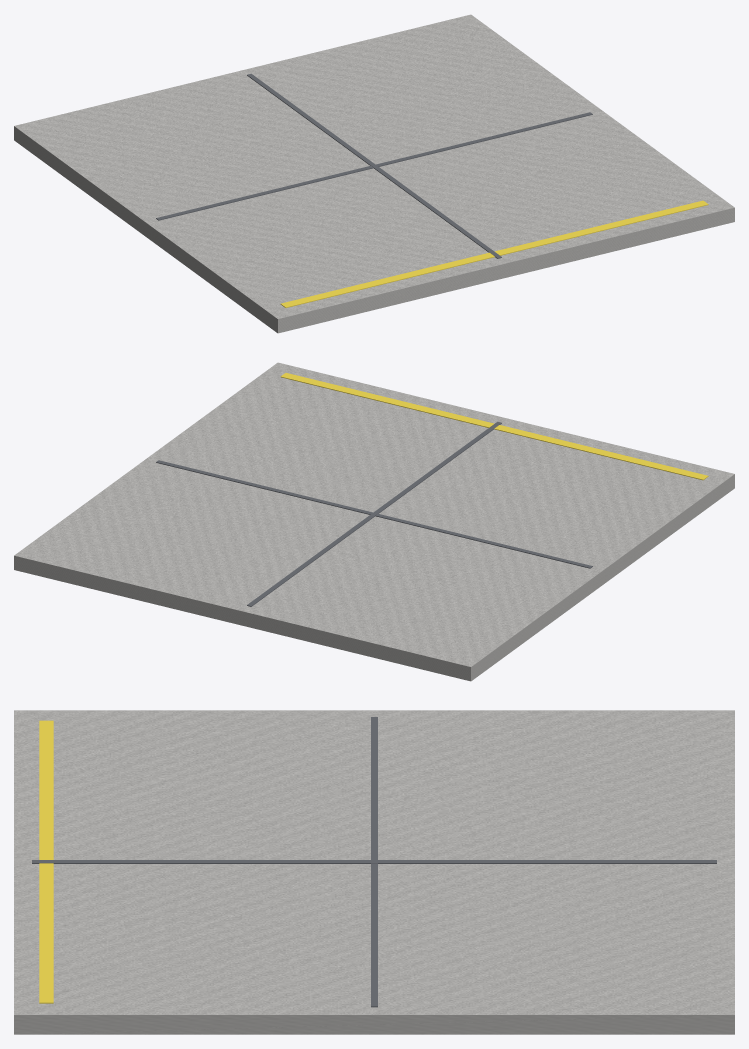
The model's file is parcel-depot-and-sorting-hall-parcel-depot-and-sorting-00f41b0e__34817.glb.
The picture shows the model from 3 angles, top to bottom: view 1: azimuth 30°, elevation 25°; view 2: azimuth 150°, elevation 25°; view 3: azimuth 270°, elevation 25°; orthographic projection. The views are drawn at different scales.
Visible parts, largest first — view 1: parcel-depot-and-sorting-hall-hall-floor-tile; view 2: parcel-depot-and-sorting-hall-hall-floor-tile; view 3: parcel-depot-and-sorting-hall-hall-floor-tile.
Boxes of the visible parts, left/top/right/bottom form: parcel-depot-and-sorting-hall-hall-floor-tile: left=14, top=14, right=734, bottom=333; parcel-depot-and-sorting-hall-hall-floor-tile: left=14, top=362, right=734, bottom=681; parcel-depot-and-sorting-hall-hall-floor-tile: left=14, top=710, right=734, bottom=1034.
Bounding box in the file's own units: 4 × 0.1274 × 4.
3 materials, 1 textured.
